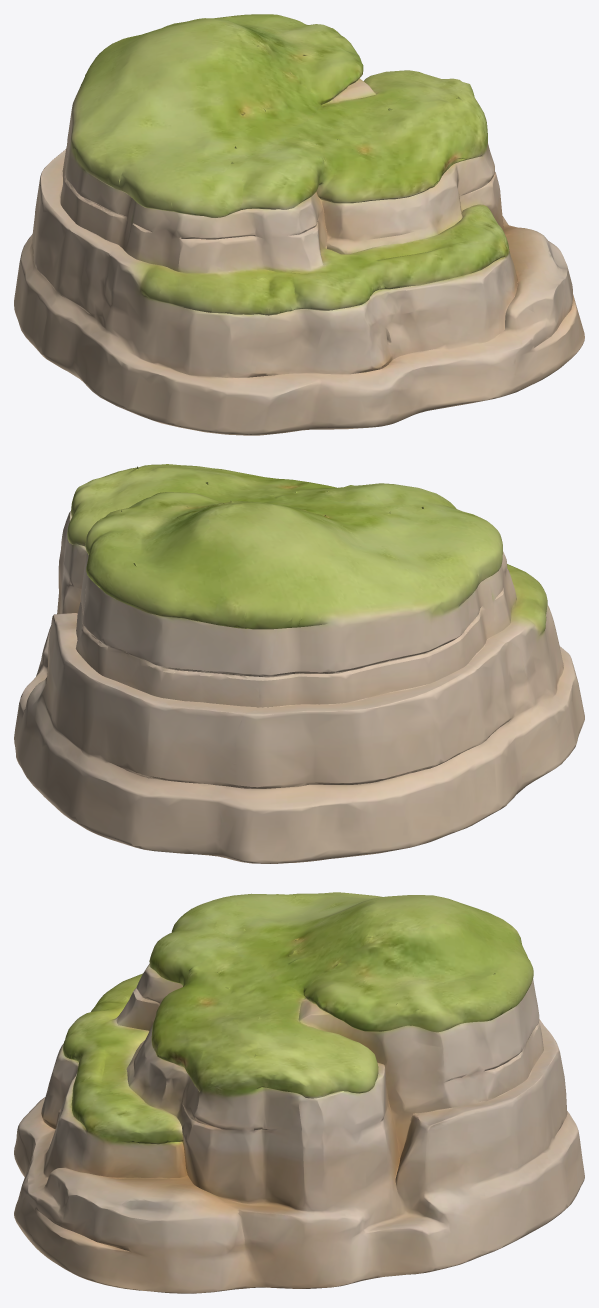
The model's file is cliff-rock-desktop.glb.
3 renders of one model, top to bottom at view 1: azimuth 30°, elevation 25°; view 2: azimuth 150°, elevation 25°; view 3: azimuth 270°, elevation 25°, orthographic. The views are drawn at different scales.
Visible parts, largest first — view 1: model; view 2: model; view 3: model.
Part boxes in pixels (bbox=[...]): model: bbox=[14, 14, 584, 435]; model: bbox=[14, 464, 584, 863]; model: bbox=[14, 892, 584, 1293].
Size of the model in its own units: 1.76 by 0.9496 by 1.9.
1 material, 1 textured.
